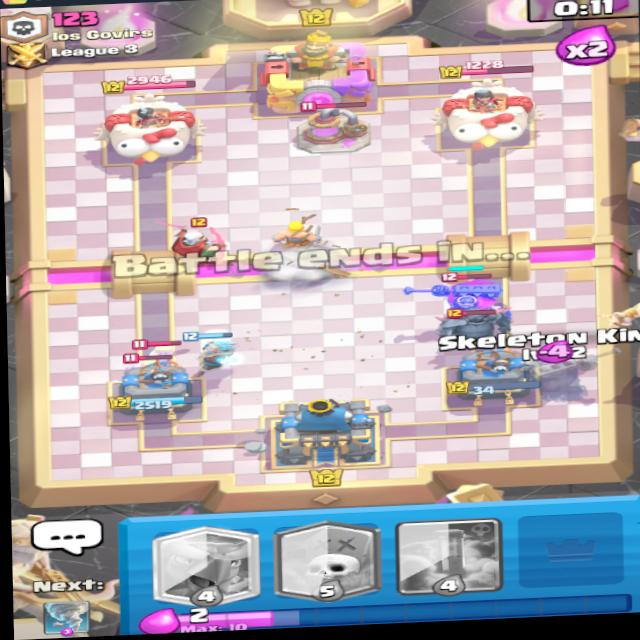Barbarian: (119, 337, 193, 369), (118, 357, 182, 381)
Marcher: (150, 217, 233, 268)
Pekka: (432, 304, 523, 356)
Pump: (291, 94, 387, 165)
skellyking: (398, 262, 524, 324)
